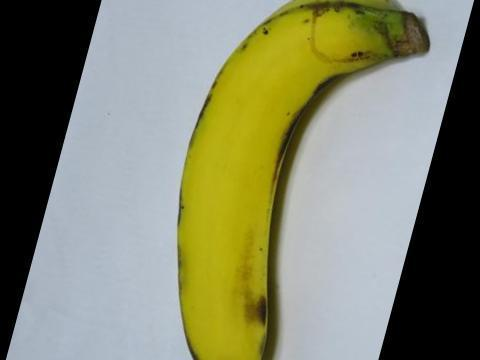freshripe: (163, 0, 435, 359)
